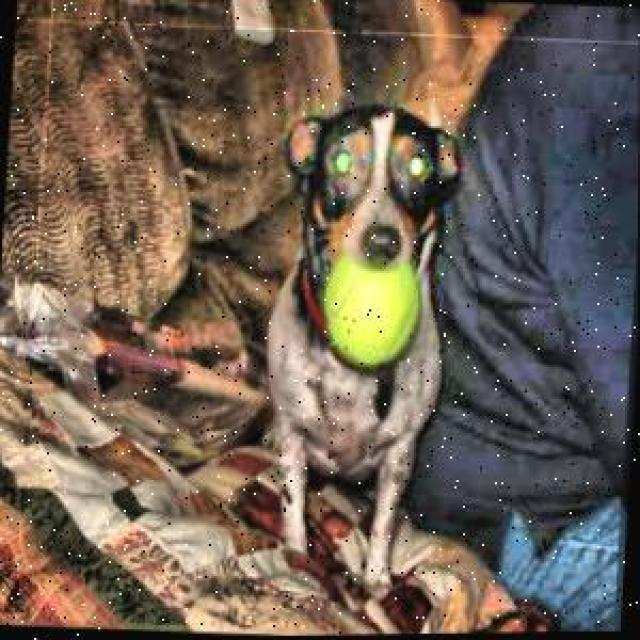tennis-ball: (319, 254, 421, 372)
